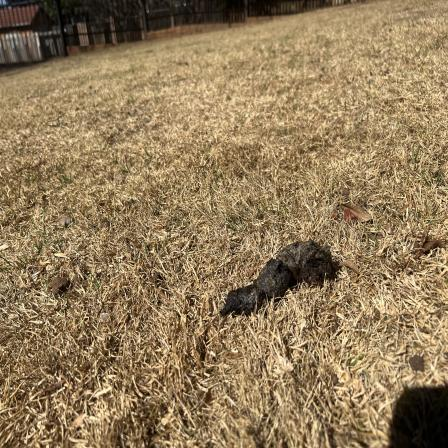dog-poop: (210, 226, 353, 310)
